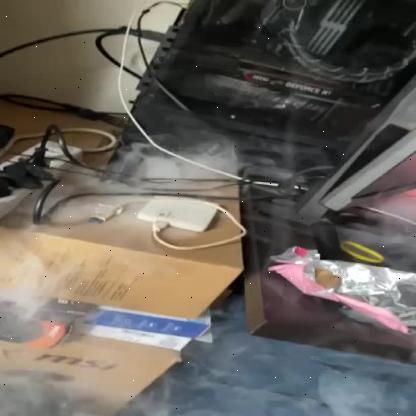smoke: (4, 109, 416, 415)
